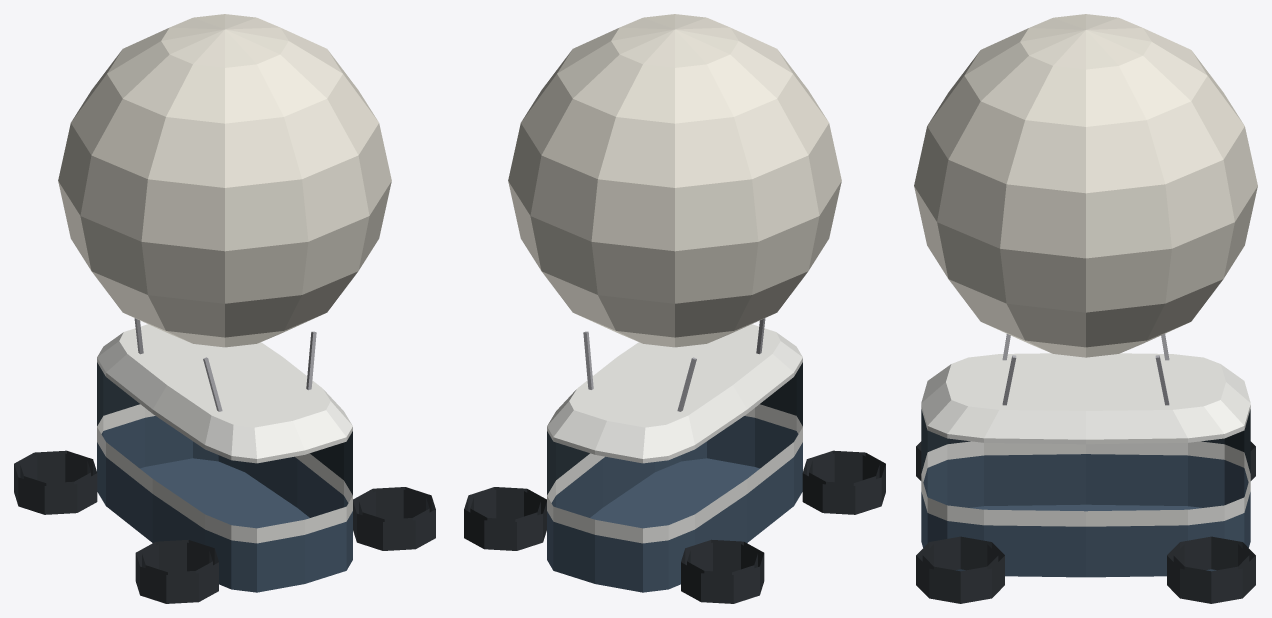
File: aerostat_lod.glb
3 views of the same model, side by side, from view 1: azimuth 30°, elevation 25°; view 2: azimuth 150°, elevation 25°; view 3: azimuth 270°, elevation 25° (orthographic). The views are drawn at different scales.
Visible parts, largest first — view 1: lod; view 2: lod; view 3: lod.
Part boxes in pixels (x1,y1,x2,y2): lod: [14, 14, 435, 603]; lod: [464, 14, 885, 603]; lod: [914, 14, 1257, 603].
Bounding box in the file's own units: 4.84 × 7.87 × 4.8.
